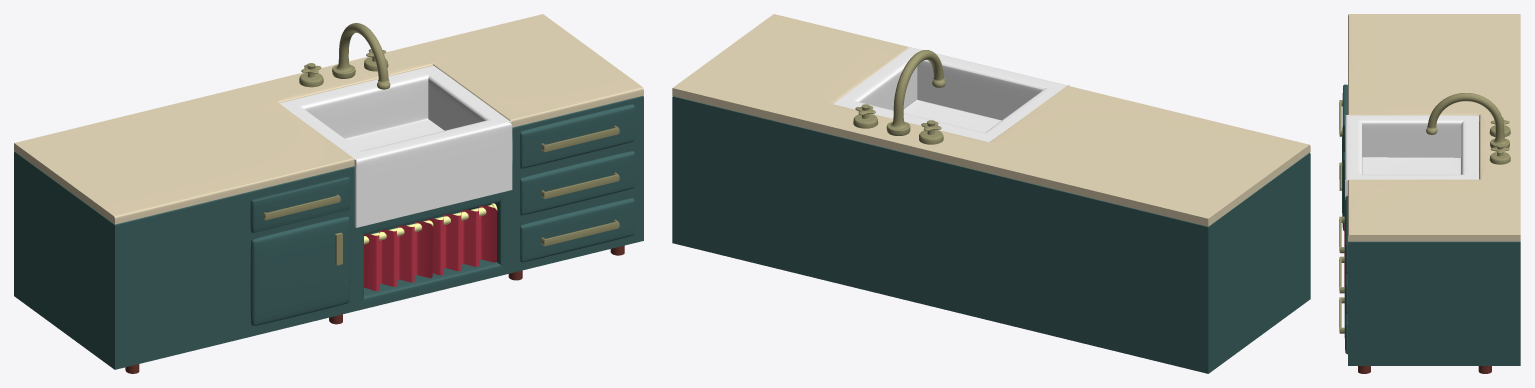
The model's file is lavadero.fbx.
The picture shows the model from 3 angles, left to right: view 1: azimuth 30°, elevation 25°; view 2: azimuth 150°, elevation 25°; view 3: azimuth 270°, elevation 25°; orthographic projection. The views are drawn at different scales.
Visible parts, largest first — view 1: lavadero; view 2: lavadero; view 3: lavadero.
Part boxes in pixels (<box>): lavadero: <box>14,14,643,373</box>; lavadero: <box>672,14,1310,373</box>; lavadero: <box>1339,14,1520,373</box>.
Size of the model in its own units: 438 by 182 by 152.
